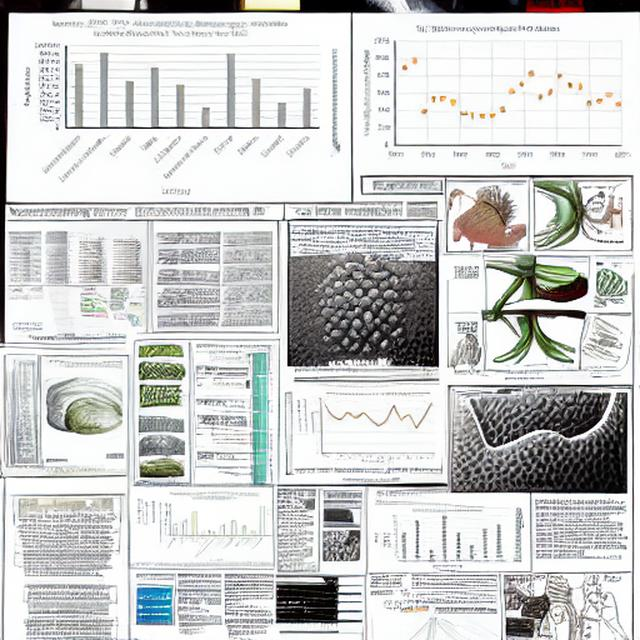Graph: (15, 15, 326, 198), (359, 21, 633, 173), (308, 389, 439, 467), (377, 508, 507, 570), (157, 491, 269, 562)
